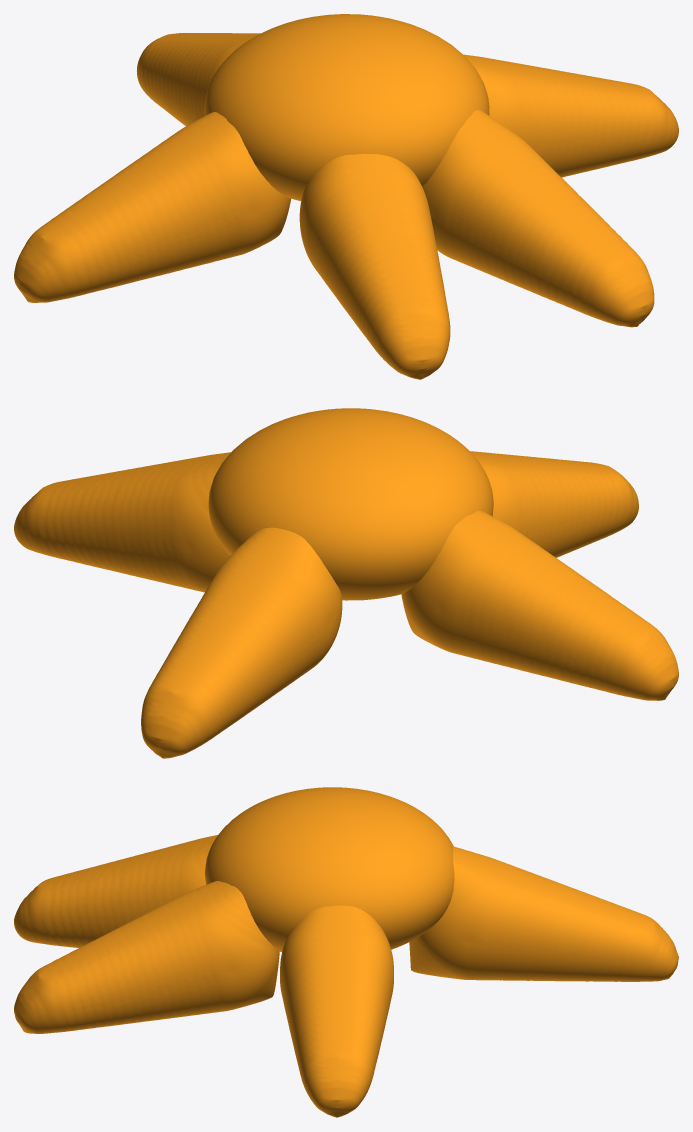
Rendered from Beach_Starfish.glb.
The picture shows the model from 3 angles, top to bottom: view 1: azimuth 30°, elevation 25°; view 2: azimuth 150°, elevation 25°; view 3: azimuth 270°, elevation 25°; orthographic projection. The views are drawn at different scales.
Parts seen in each view (by area): view 1: mesh_id29.001, mesh_id56.001, mesh_id135.001, mesh_id136, mesh_id26.001, mesh_id157; view 2: mesh_id29.001, mesh_id56.001, mesh_id157, mesh_id26.001, mesh_id136; view 3: mesh_id29.001, mesh_id135.001, mesh_id157, mesh_id26.001, mesh_id136.
Boxes of the visible parts, x1,y1,x2,y2 form: mesh_id29.001: (204, 14, 489, 200); mesh_id56.001: (14, 112, 290, 302); mesh_id135.001: (422, 109, 654, 327); mesh_id136: (299, 153, 450, 379); mesh_id26.001: (463, 54, 678, 177); mesh_id157: (137, 33, 260, 125); mesh_id29.001: (208, 408, 493, 600); mesh_id56.001: (401, 511, 678, 700); mesh_id157: (141, 527, 342, 758); mesh_id26.001: (14, 452, 230, 592); mesh_id136: (470, 451, 638, 557); mesh_id29.001: (204, 787, 454, 952); mesh_id135.001: (14, 881, 279, 1033); mesh_id157: (409, 846, 678, 981); mesh_id26.001: (280, 905, 393, 1117); mesh_id136: (14, 835, 217, 947).
Size of the model in its own units: 0.7941 by 0.2255 by 0.7795.
7 materials, 7 textured.
